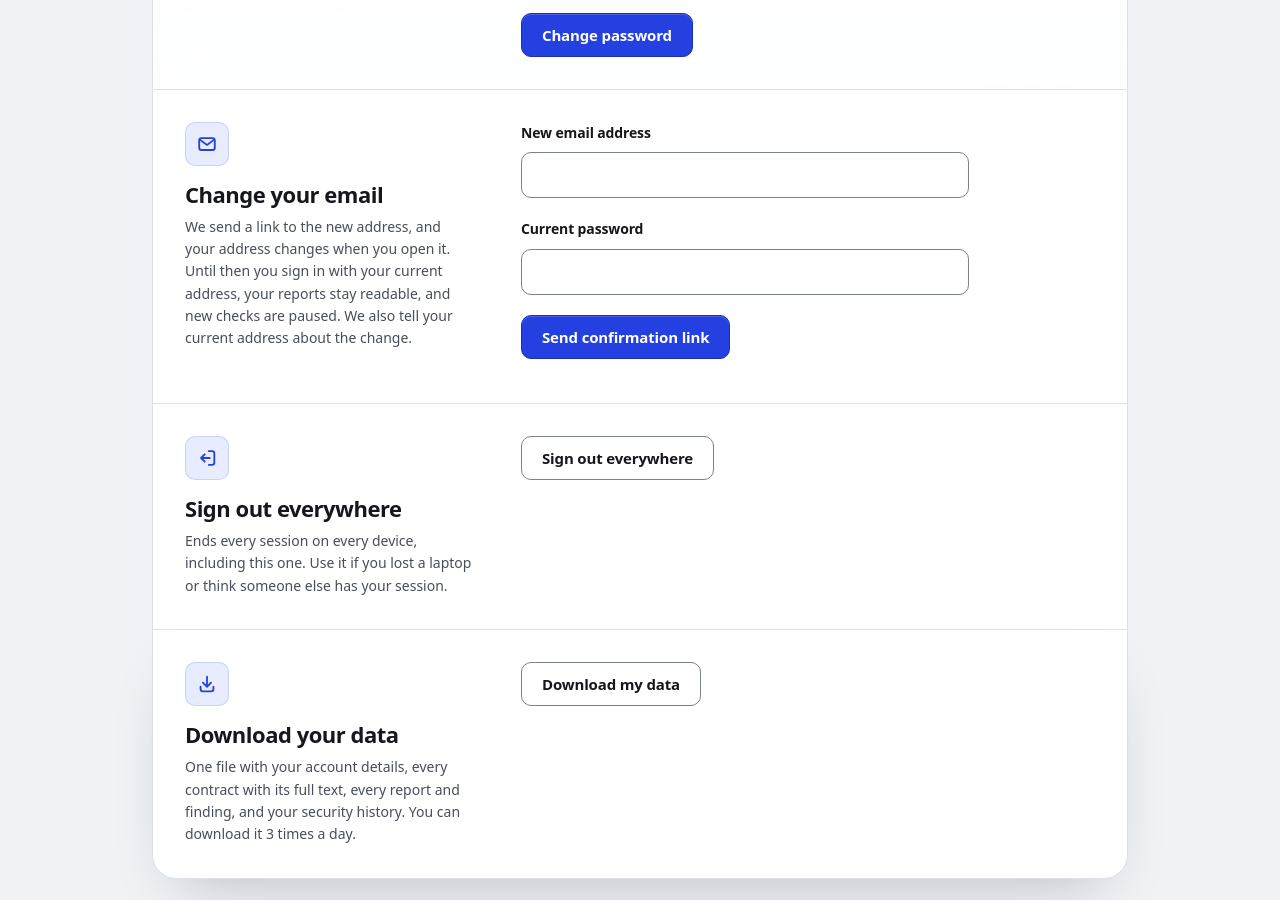
it: SettingsPage (FR-7.1, FR-1.9, FR-4.5, FR-4.6) › sign out everywhere › stays put and says so when the request fails
(page scrolled)
Click the button "Sign out everywhere".
click(618, 458)  # box x1=521 y1=436 x2=714 y2=480
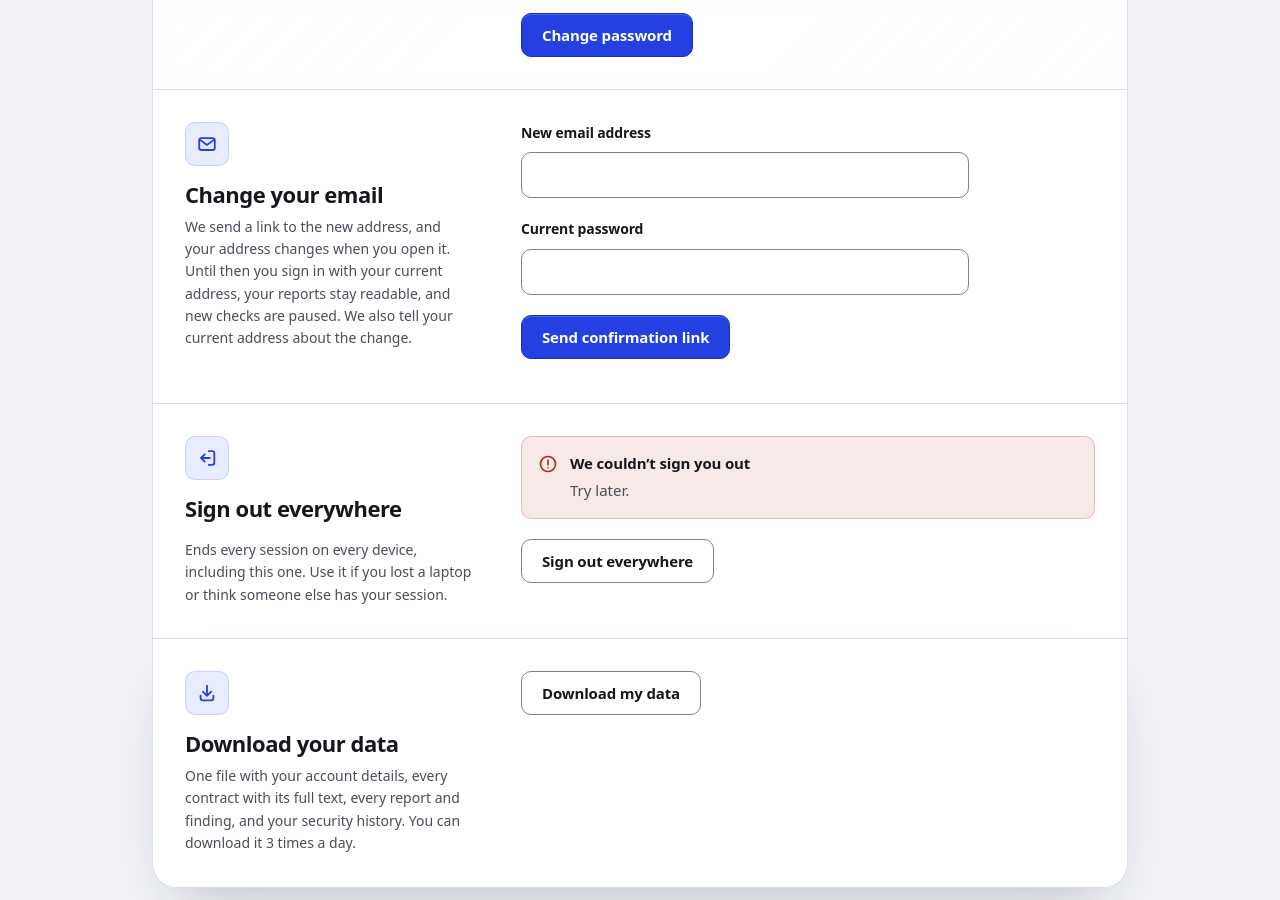
Expected: the text "Try later." is shown, x1=570 y1=480 x2=629 y2=500
